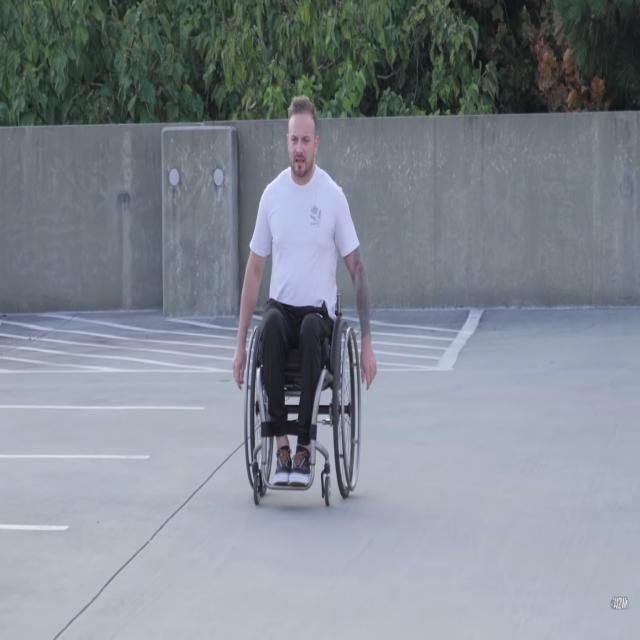wheelchairs: (236, 287, 366, 505)
